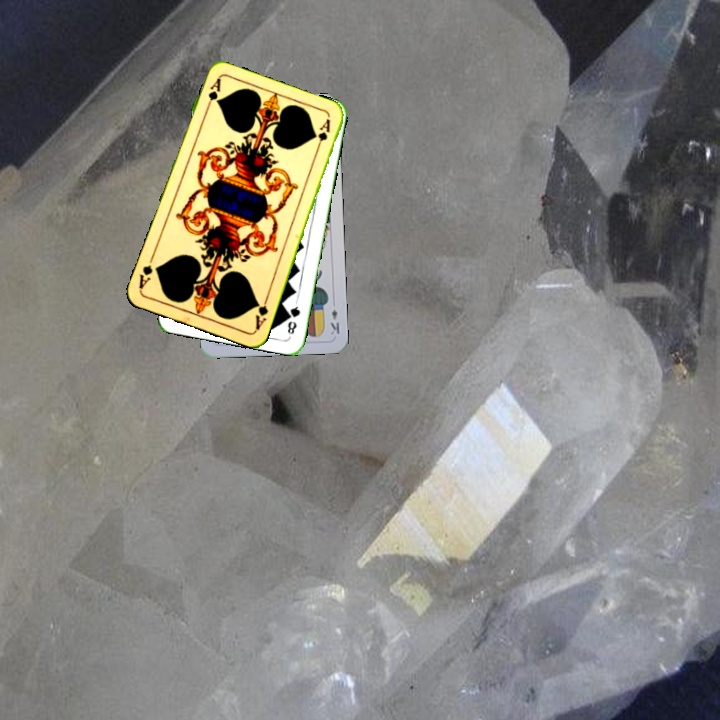EK: (327, 305, 342, 337)
G8: (283, 298, 303, 337)
GA: (202, 75, 224, 114), (251, 293, 271, 332)
